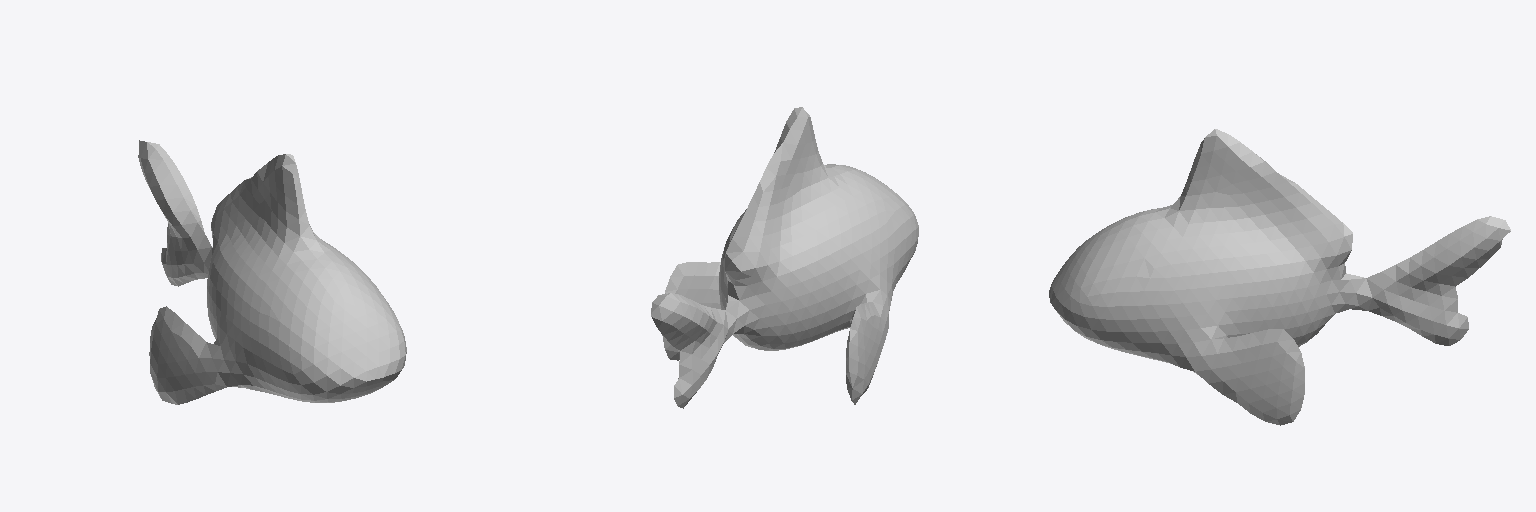
File: blub001k.obj
3 views of the same model, side by side, from view 1: azimuth 30°, elevation 25°; view 2: azimuth 150°, elevation 25°; view 3: azimuth 270°, elevation 25° (orthographic).
Size of the model in its own units: 1.42 by 1.75 by 2.91.